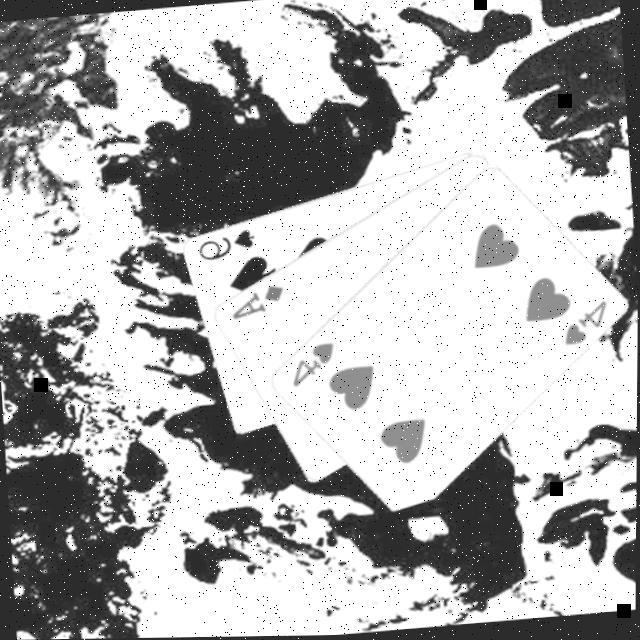4H: (557, 300, 611, 352), (285, 340, 338, 392)
9S: (193, 227, 258, 266)
AD: (225, 282, 288, 326)
